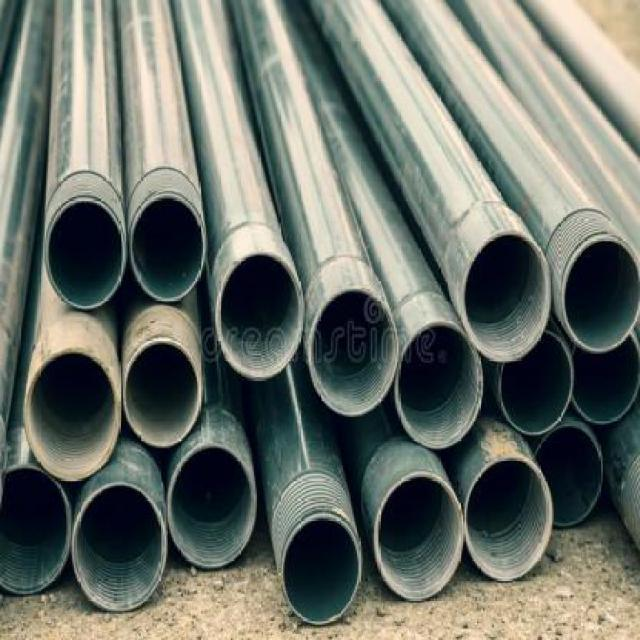pipe: (24, 348, 120, 482), (71, 483, 167, 612), (464, 230, 552, 363), (374, 472, 463, 600), (311, 288, 399, 417), (215, 252, 303, 380), (464, 456, 553, 581), (168, 443, 256, 568), (397, 323, 483, 449), (561, 233, 640, 352), (0, 465, 71, 596), (47, 198, 125, 311), (283, 515, 361, 623), (123, 339, 200, 448), (131, 193, 205, 302), (499, 331, 573, 436), (533, 425, 602, 527), (572, 332, 640, 425)
